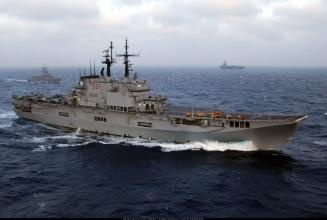warship: (12, 42, 310, 151)
